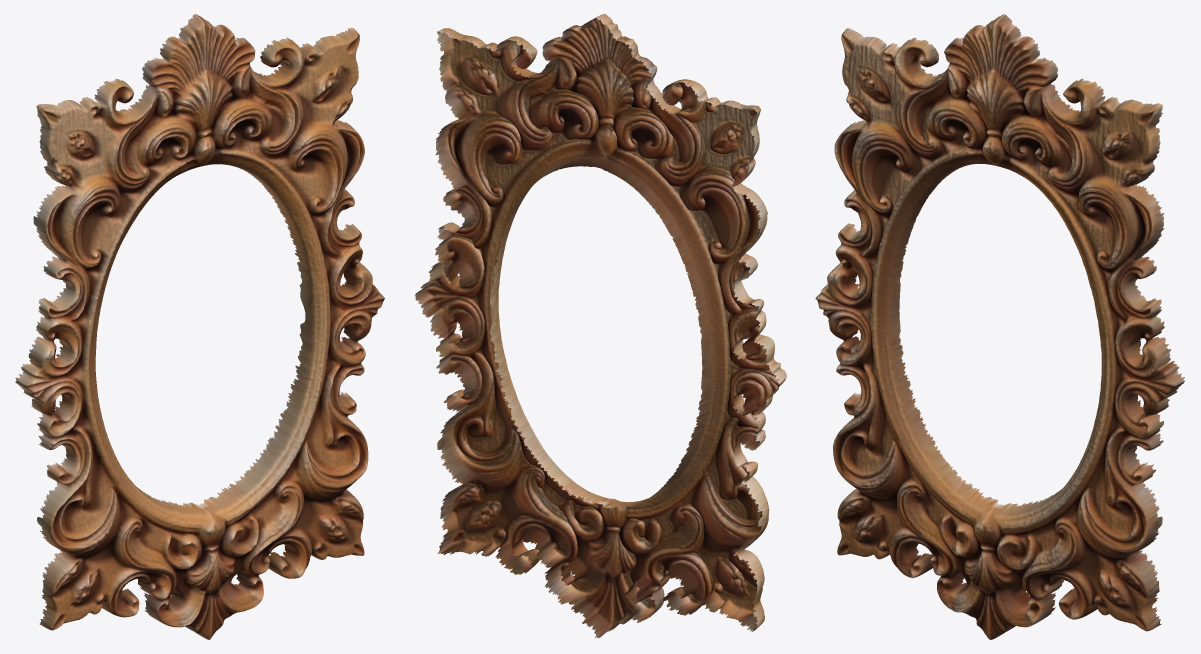
File: Mirror Frame 004 c4d.fbx
3 renders of one model, left to right at view 1: azimuth 30°, elevation 25°; view 2: azimuth 150°, elevation 25°; view 3: azimuth 330°, elevation 25°, orthographic.
Parts seen in each view (by area): view 1: ImagePlane; view 2: ImagePlane; view 3: ImagePlane.
Part boxes in pixels (<box>): ImagePlane: <box>15,14,384,639</box>; ImagePlane: <box>414,14,786,637</box>; ImagePlane: <box>815,14,1184,639</box>.
Size of the model in its own units: 38.95 by 63.4 by 4.11.
Materials: 1 (1 with a texture image).
